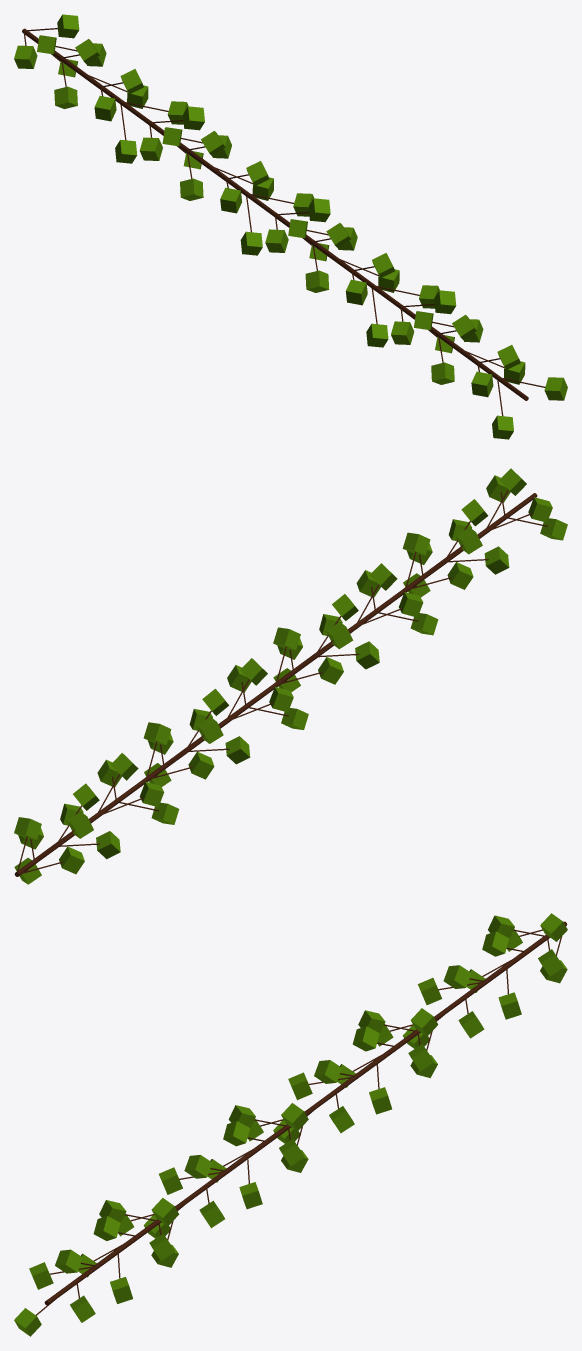
Rendered from Tree.fbx.
The picture shows the model from 3 angles, top to bottom: view 1: azimuth 30°, elevation 25°; view 2: azimuth 150°, elevation 25°; view 3: azimuth 330°, elevation 25°; orthographic projection. The views are drawn at different scales.
Visible parts, largest first — view 1: Tree; view 2: Tree; view 3: Tree.
Boxes of the visible parts, <box> form: Tree: <box>14,14,567,439</box>; Tree: <box>14,468,567,884</box>; Tree: <box>14,913,567,1336</box>.
Bounding box in the file's own units: 1.9 × 1.71 × 20.17.
